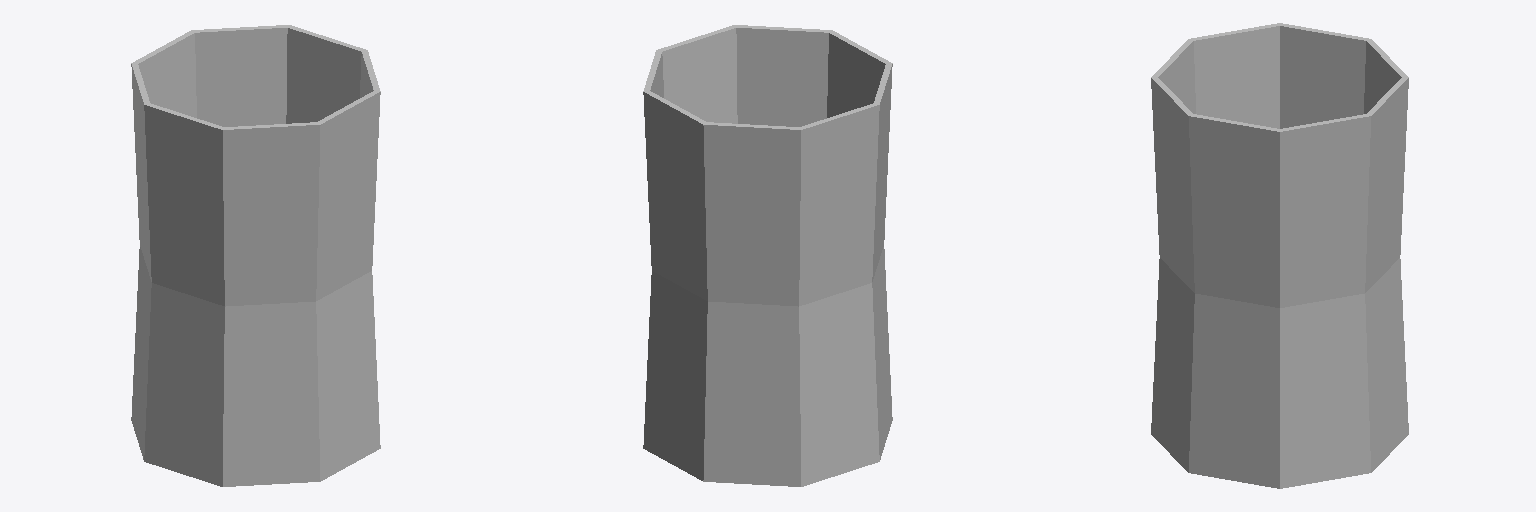
The model's file is barrel_open.obj.
3 renders of one model, left to right at view 1: azimuth 30°, elevation 25°; view 2: azimuth 150°, elevation 25°; view 3: azimuth 270°, elevation 25°, orthographic.
Visible parts, largest first — view 1: opened_barell_OK; view 2: opened_barell_OK; view 3: opened_barell_OK.
Boxes of the visible parts, <box> form: opened_barell_OK: <box>131,25,380,486</box>; opened_barell_OK: <box>643,25,892,486</box>; opened_barell_OK: <box>1151,23,1408,488</box>.
Size of the model in its own units: 0.57 by 0.87 by 0.57.